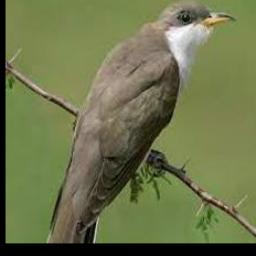Cuckoo: (45, 1, 235, 243)
